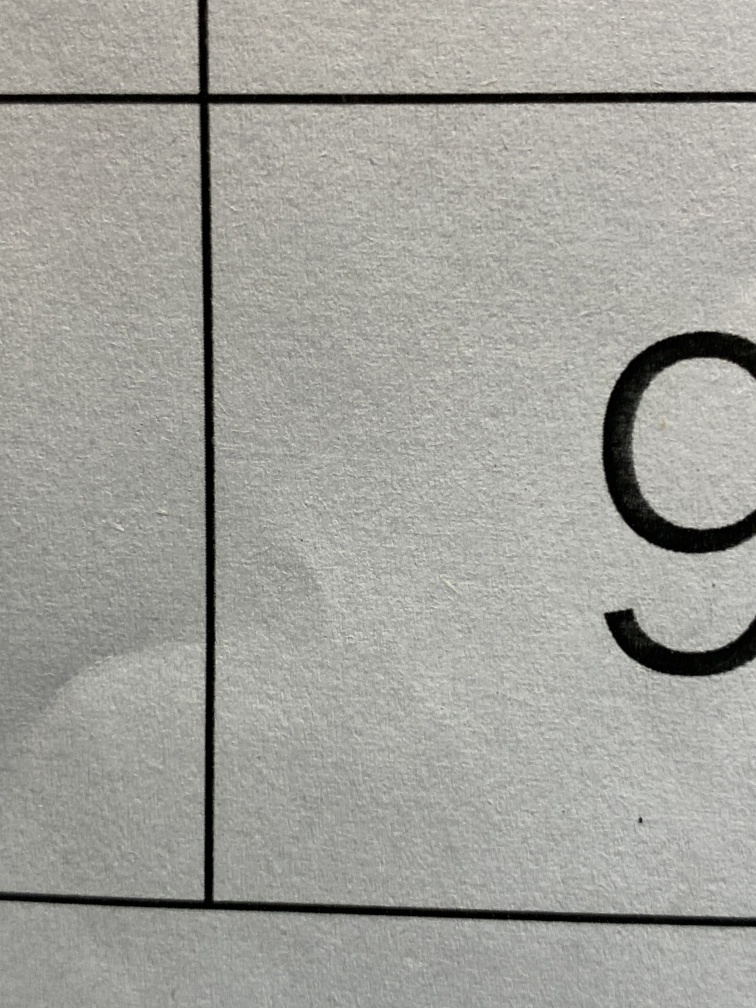nine: (520, 293, 756, 725)
